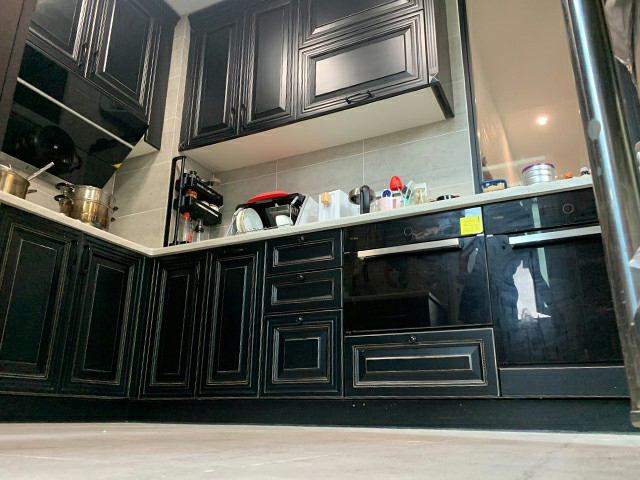cabinet: (152, 181, 591, 430), (1, 187, 150, 425)
